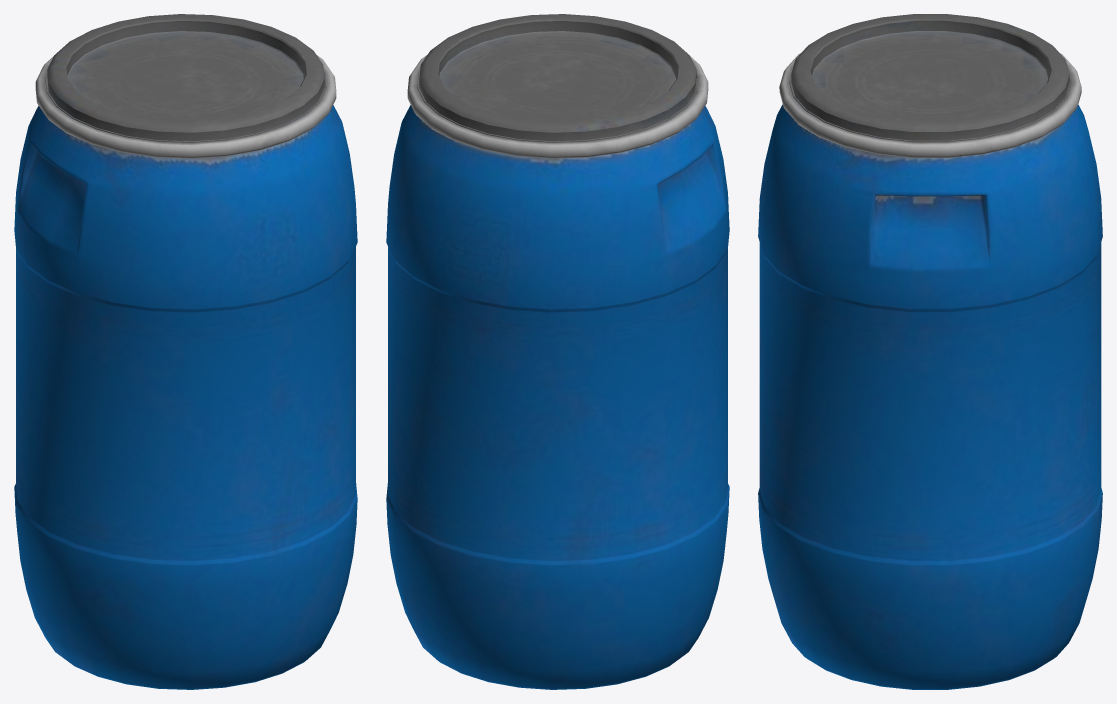
File: barrel.glb
3 views of the same model, side by side, from view 1: azimuth 30°, elevation 25°; view 2: azimuth 150°, elevation 25°; view 3: azimuth 270°, elevation 25° (orthographic).
Visible parts, largest first — view 1: barrel; view 2: barrel; view 3: barrel.
Part boxes in pixels (left/top/right/bottom): barrel: left=14, top=14, right=357, bottom=689; barrel: left=386, top=14, right=729, bottom=689; barrel: left=758, top=14, right=1102, bottom=689.
Bounding box in the file's own units: 0.4846 × 0.88 × 0.4882.
Materials: 1 (1 with a texture image).
